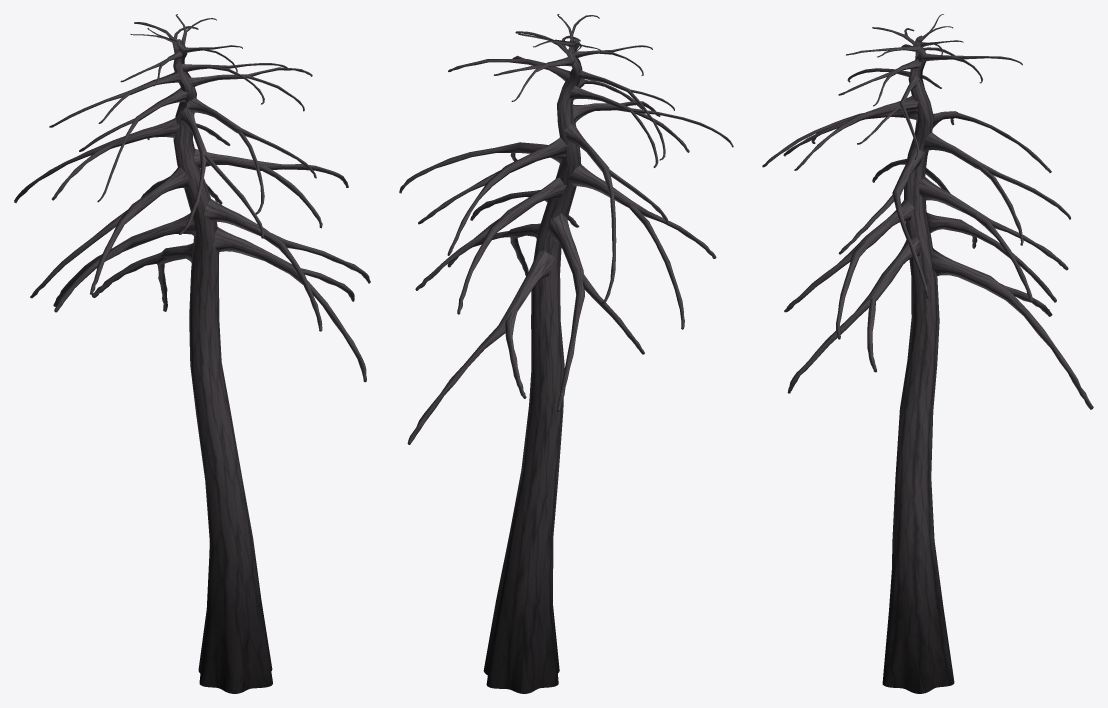
Rendered from DeadTree_3.glb.
3 views of the same model, side by side, from view 1: azimuth 30°, elevation 25°; view 2: azimuth 150°, elevation 25°; view 3: azimuth 270°, elevation 25° (orthographic). The views are drawn at different scales.
Parts seen in each view (by area): view 1: DeadTree_3; view 2: DeadTree_3; view 3: DeadTree_3.
Part boxes in pixels (<box>): DeadTree_3: <box>14,14,370,693</box>; DeadTree_3: <box>399,14,733,693</box>; DeadTree_3: <box>762,14,1093,693</box>.
Size of the model in its own units: 6.39 by 13.28 by 6.43.
1 material, 1 textured.
